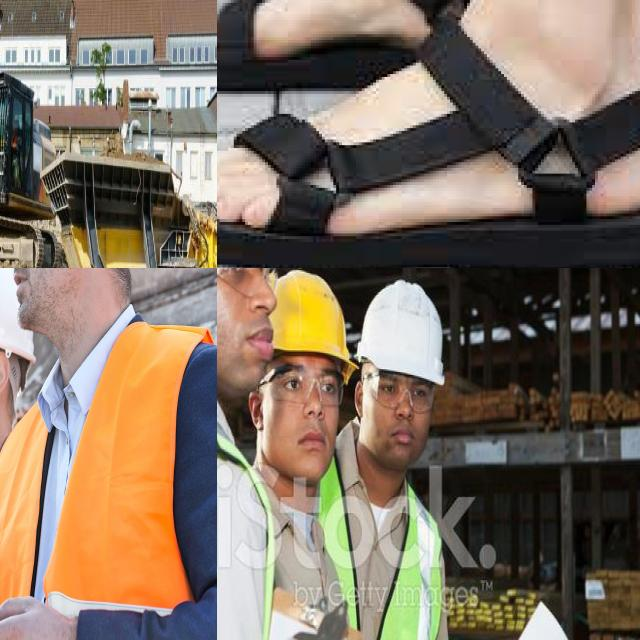No_Ear-Protection: (248, 389, 268, 431), (353, 378, 367, 420), (0, 347, 10, 404)
Sandals: (217, 4, 640, 268)
face_nomask: (217, 268, 281, 394), (278, 364, 338, 480), (374, 374, 434, 469), (0, 268, 84, 327)
glasses: (272, 361, 344, 412), (367, 371, 434, 415), (217, 268, 279, 303)
hand_noglove: (0, 584, 76, 640)
head_helmet: (356, 273, 452, 387), (262, 268, 354, 368), (0, 268, 40, 369)
person: (0, 268, 217, 640), (333, 278, 454, 640), (253, 268, 356, 640)
vest: (3, 366, 208, 640), (323, 454, 443, 640)
